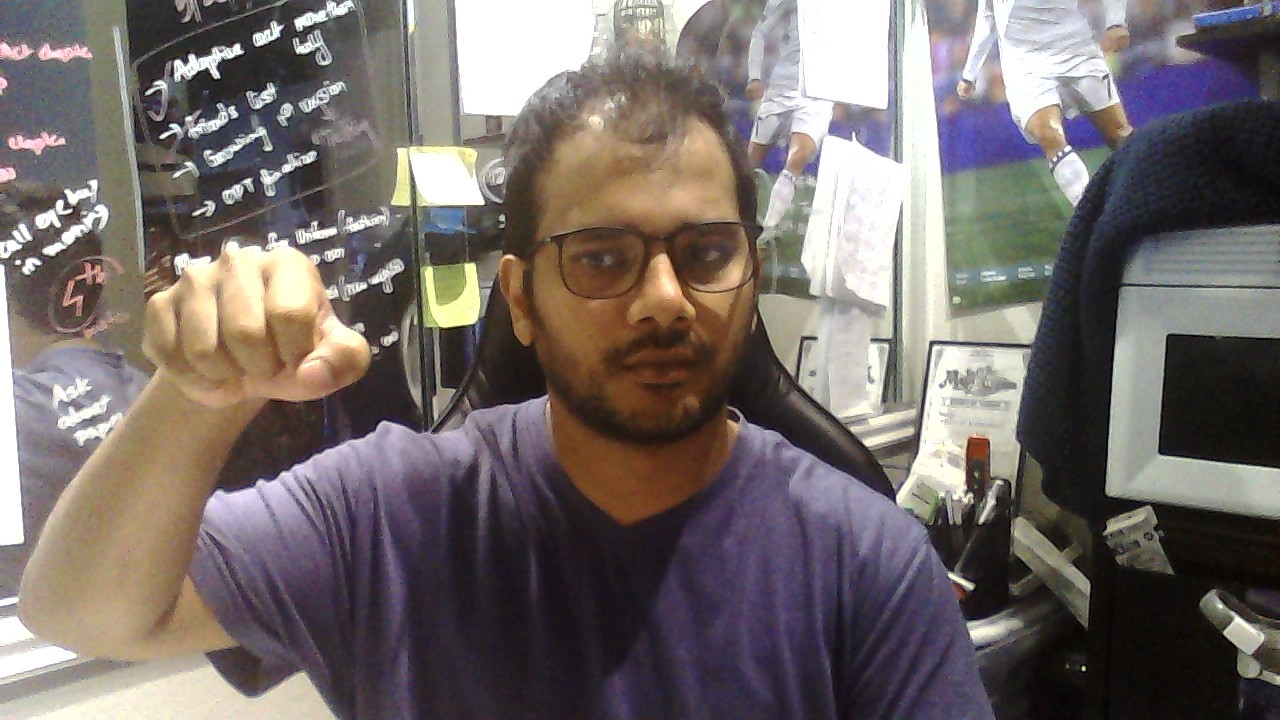Yes: (142, 246, 370, 402)
